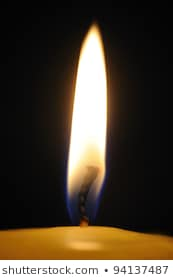Fire: (68, 20, 110, 222)
